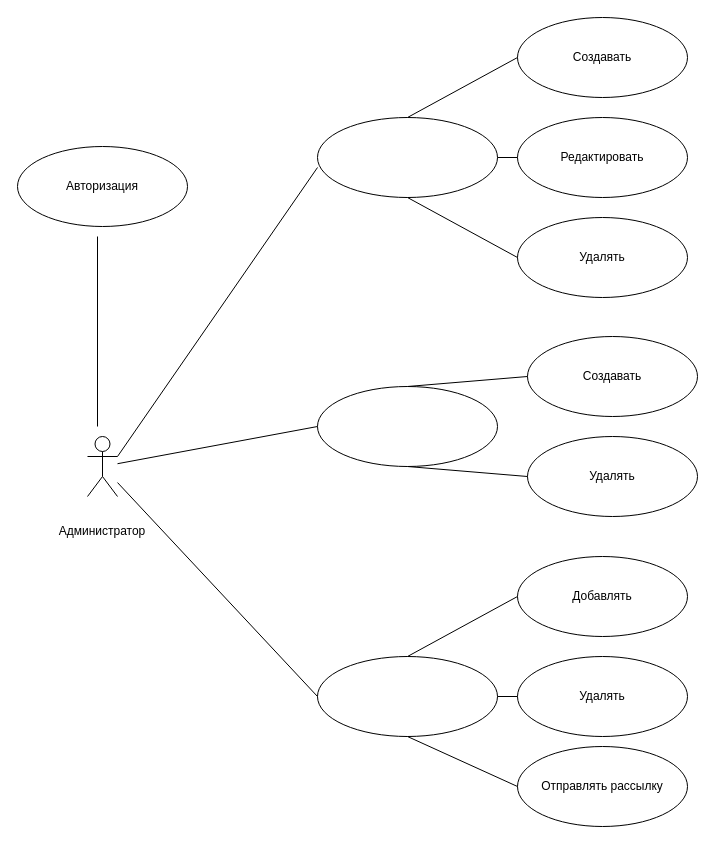
The diagram is 715 pixels wide and 844 high, and some of its shapes have lost their labels. Each missing label, with the box of its shape:
Actor: (86, 436, 118, 496)
Рассылка: (316, 656, 498, 736)
Страницы: (316, 116, 498, 198)
Фотографии галереи: (316, 386, 498, 466)
